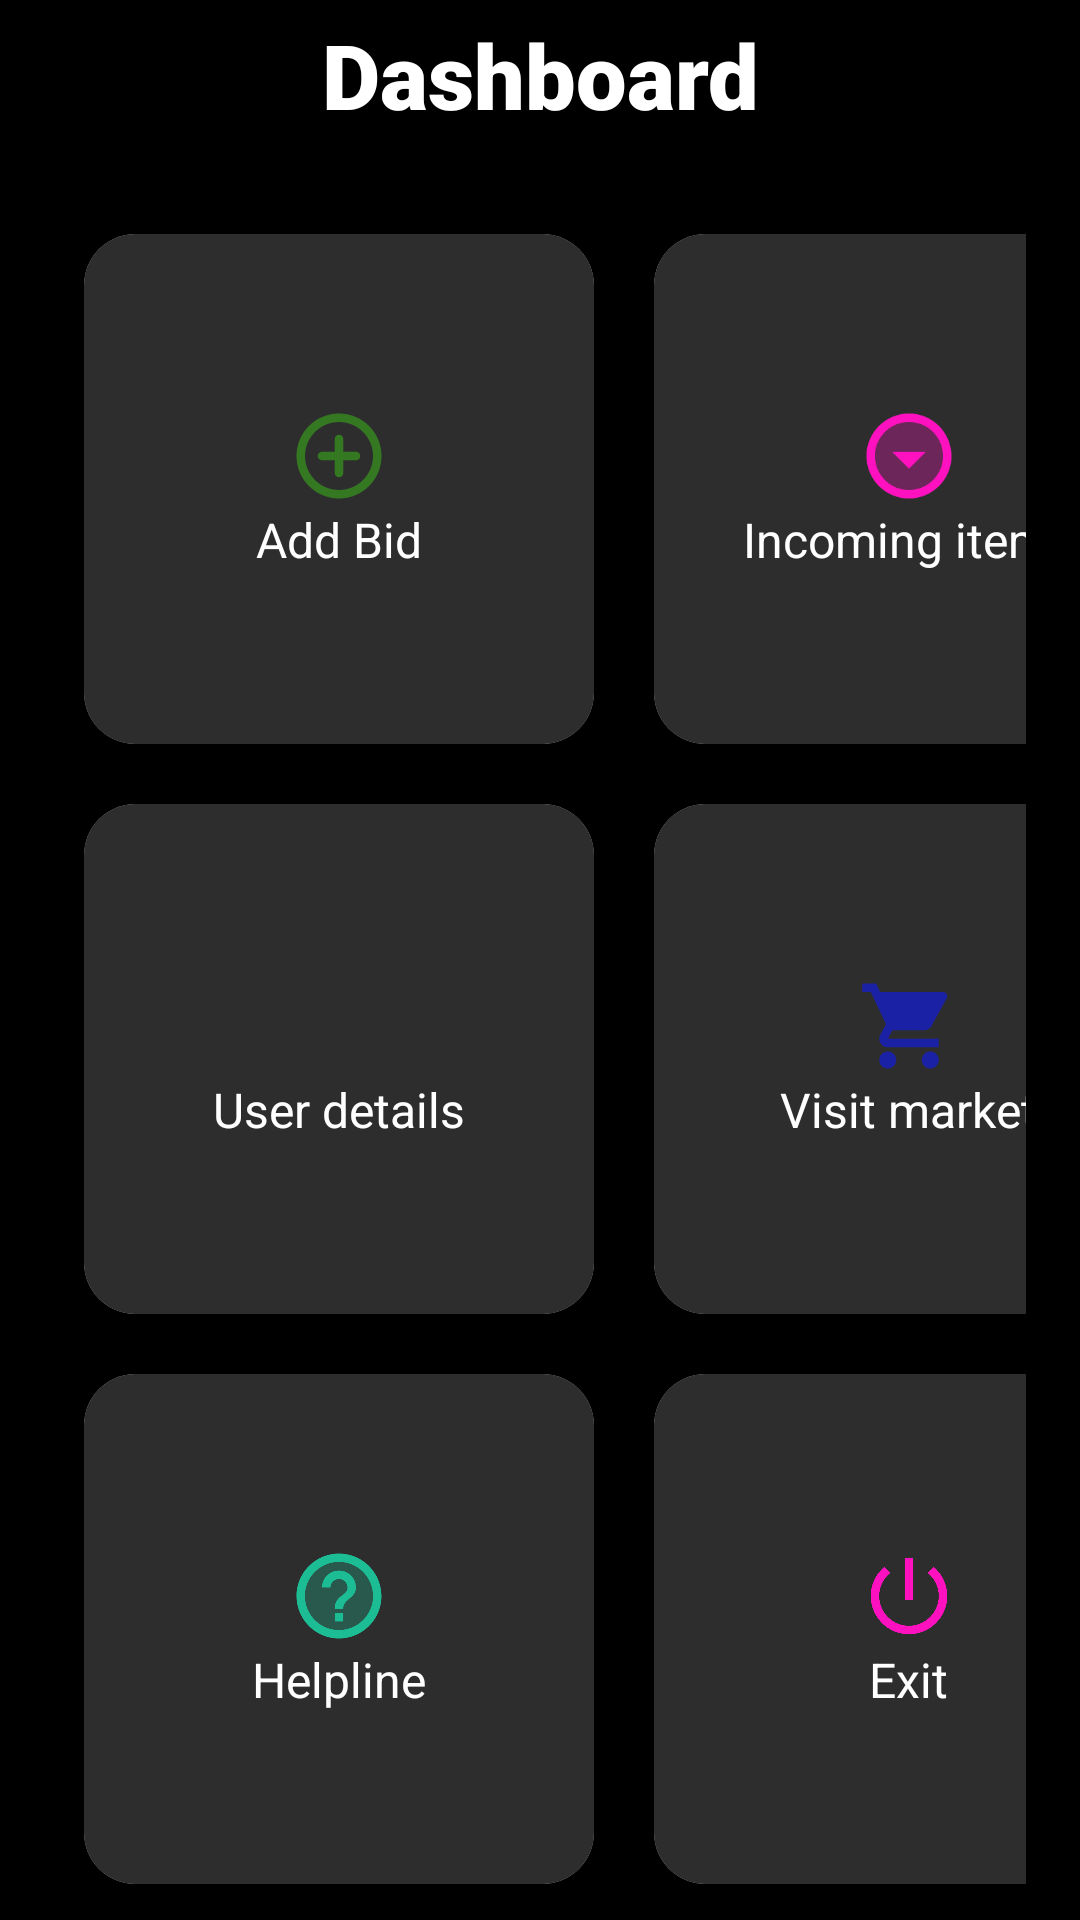

Screen size 1080 × 1920. Icon name, then its box in pixels as (x1, y1, x2, y2):
arrow drop down circle: (866, 413, 952, 499)
